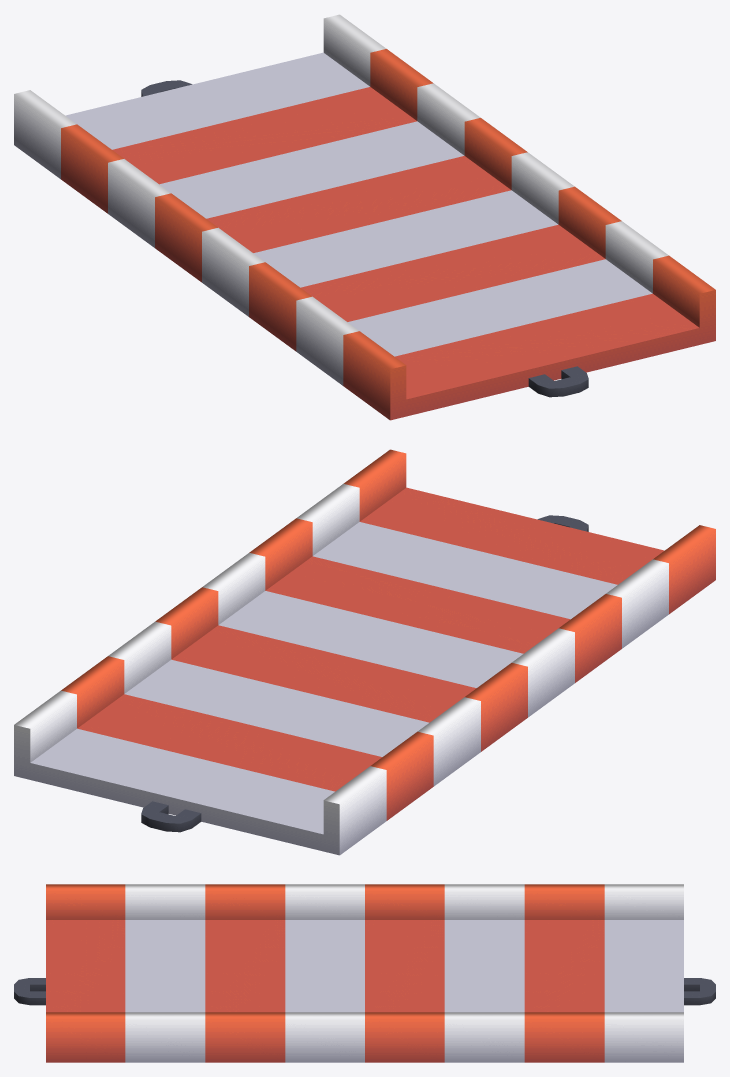
Rendered from track-striped-wide-straight.glb.
3 renders of one model, top to bottom at view 1: azimuth 30°, elevation 25°; view 2: azimuth 150°, elevation 25°; view 3: azimuth 270°, elevation 25°, orthographic. The views are drawn at different scales.
Visible parts, largest first — view 1: track-striped-wide-straight; view 2: track-striped-wide-straight; view 3: track-striped-wide-straight.
Part boxes in pixels (box(x1,y1,x2,y2)): track-striped-wide-straight: box(14, 14, 715, 420); track-striped-wide-straight: box(14, 449, 715, 855); track-striped-wide-straight: box(14, 884, 715, 1062).
Bounding box in the file's own units: 6 × 0.9 × 13.2.
1 material, 1 textured.
